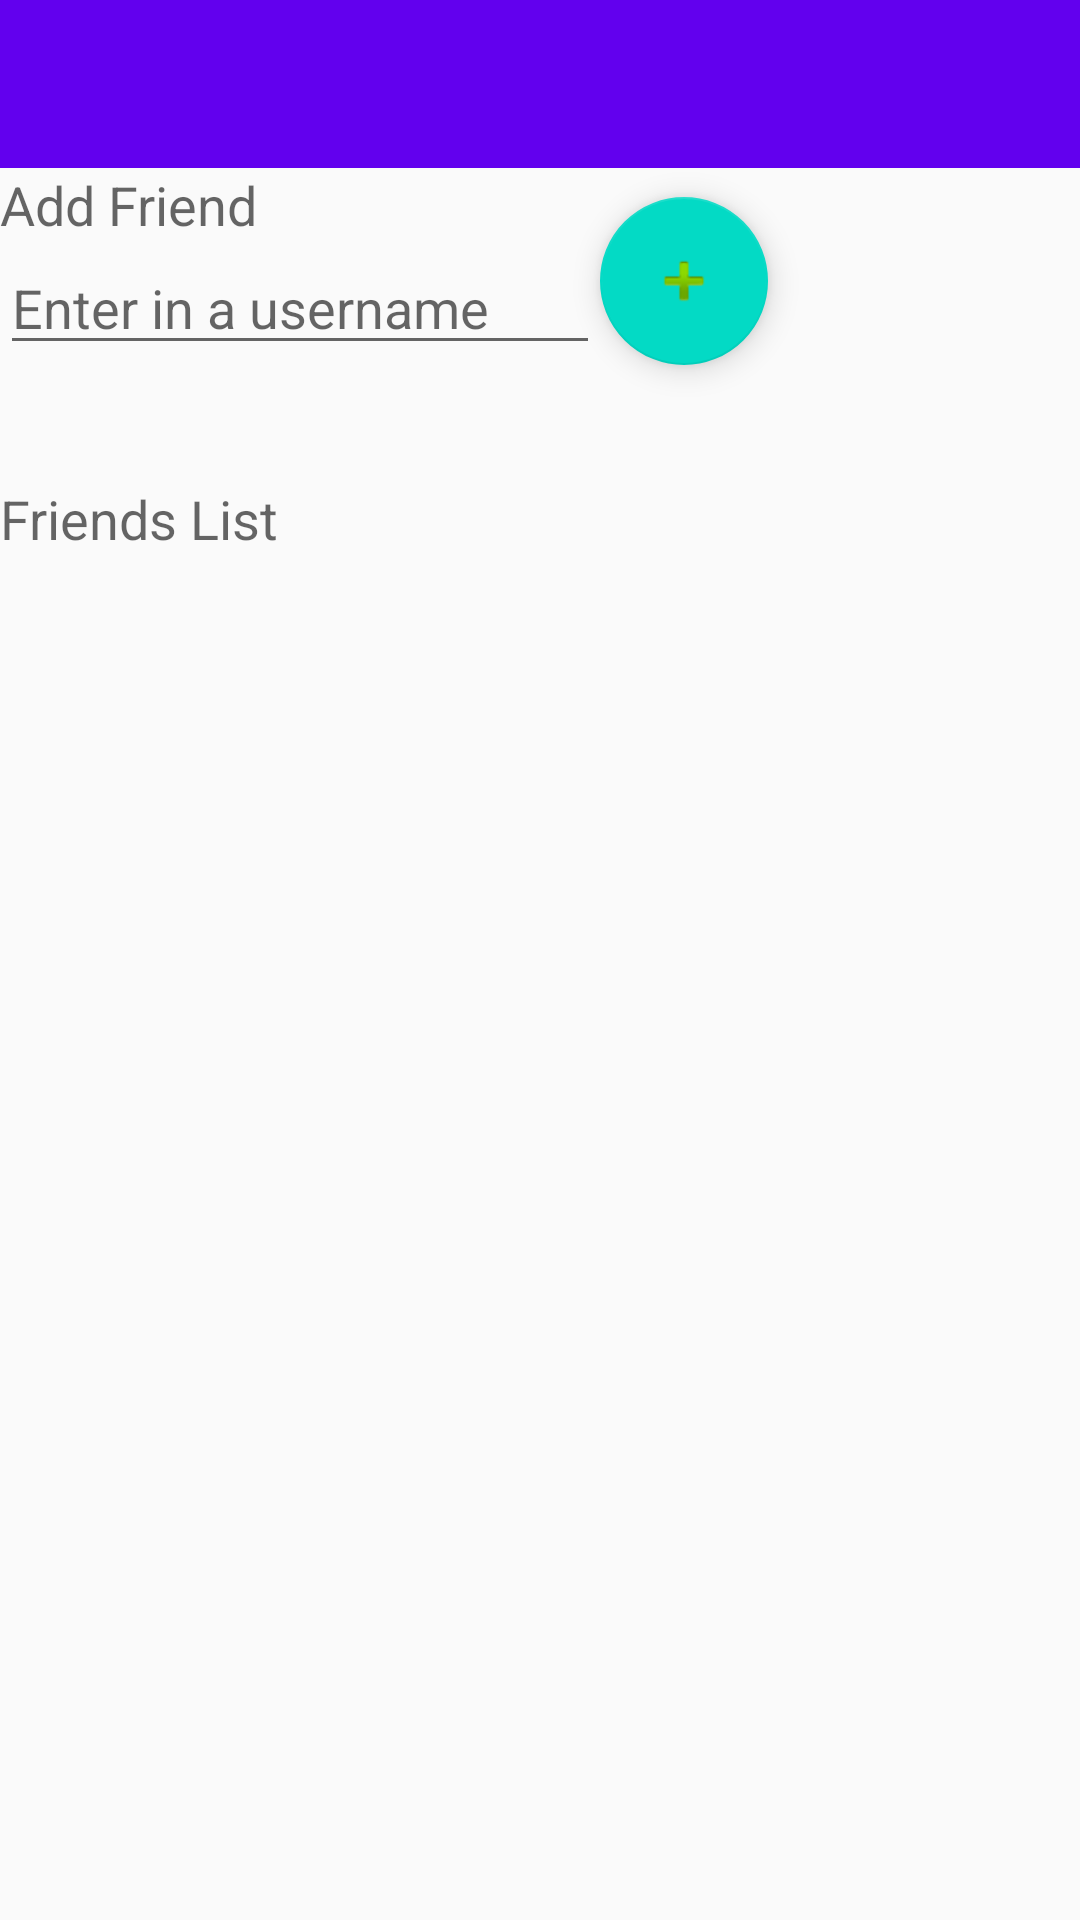

Icon click points for this 1080px x 1920px phone screenshot, format (x,y):
add: (684,281)
